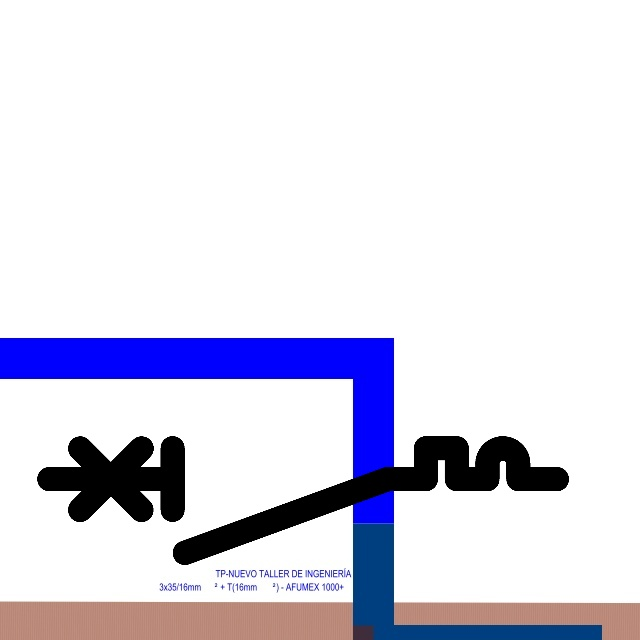interruptor_termomagnetico: (36, 435, 570, 566)
